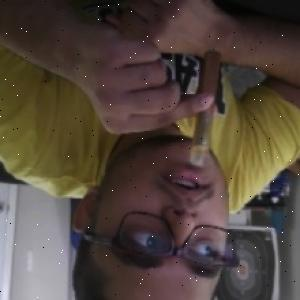Golden-E-Ciggirate: (188, 49, 225, 168)
